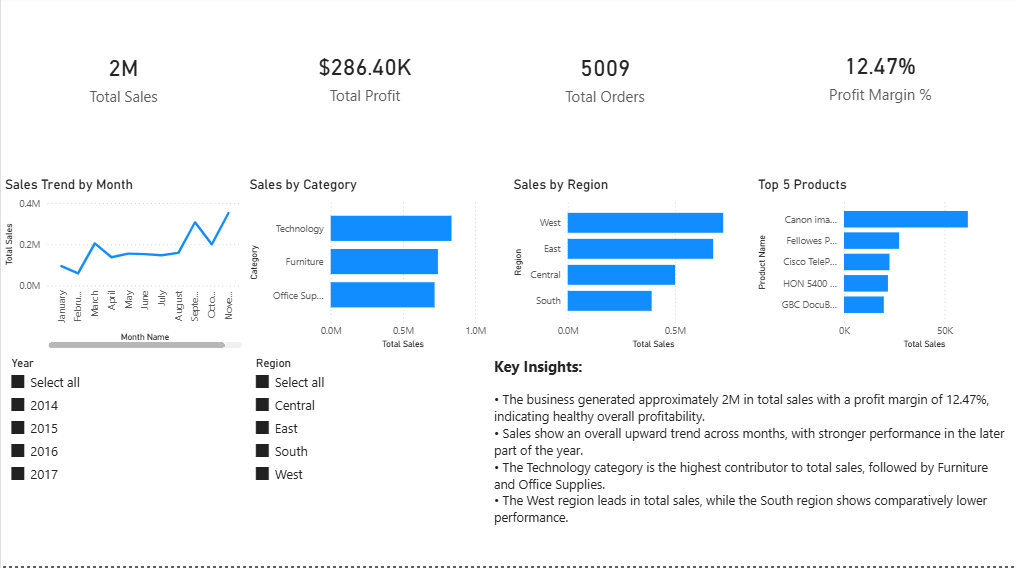

The page's visual inventory and layout, read from the dashboard file:
{"tool":"powerbi","page":{"name":"Page 1","canvas":[1280,720],"ordinal":0},"visuals":[{"type":"card","title":"Total Sales","fields":{"Values":["Sales_Data.Total Sales"]},"box":[0,0,308,204.1],"z":0},{"type":"card","fields":{"Values":["Sales_Data.Total Profit"]},"box":[308,0,300.5,202.2],"z":1000},{"type":"card","fields":{"Values":["Sales_Data.Total Orders"]},"box":[599.1,0,323.2,204.1],"z":2000},{"type":"card","fields":{"Values":["Sales_Data.Profit Margin %"]},"box":[935.4,0,343.9,198.4],"z":3000},{"type":"lineChart","title":"Sales Trend by Month","fields":{"Category":["Sales_Data.Month Name"],"Y":["Sales_Data.Total Sales"]},"box":[0,228.7,308,221.1],"z":4000},{"type":"clusteredBarChart","title":"Sales by Category","fields":{"Category":["Sales_Data.Category"],"Y":["Sales_Data.Total Sales"]},"box":[308,228.7,308,221.1],"z":5000},{"type":"barChart","title":"Sales by Region","fields":{"Category":["Sales_Data.Region"],"Y":["Sales_Data.Total Sales"]},"box":[640.6,228.7,308,221.1],"z":6000},{"type":"clusteredBarChart","title":"Top 5 Products","fields":{"Category":["Sales_Data.Product Name"],"Y":["Sales_Data.Total Sales"]},"box":[948.7,228.7,330.7,221.1],"z":7000},{"type":"slicer","title":"Year","fields":{"Values":["Sales_Data.Year"]},"box":[0,449.8,308,270.2],"z":8000},{"type":"slicer","fields":{"Values":["Sales_Data.Region"]},"box":[308,449.8,308,270.2],"z":9000},{"type":"textbox","box":[616.1,449.8,663.3,270.2],"z":10000}]}

Visuals, with their boxes in screenshot pixels (x1, y1, x2, y2), scaled from the page's 1280x720 canvas onto the 1016x568 screenshot:
"Total Sales" card: 0, 0, 244, 161
card - Sales_Data.Total Profit: 244, 0, 483, 160
card - Sales_Data.Total Orders: 476, 0, 732, 161
card - Sales_Data.Profit Margin %: 742, 0, 1015, 157
"Sales Trend by Month" lineChart: 0, 180, 244, 355
"Sales by Category" clusteredBarChart: 244, 180, 489, 355
"Sales by Region" barChart: 508, 180, 753, 355
"Top 5 Products" clusteredBarChart: 753, 180, 1015, 355
"Year" slicer: 0, 355, 244, 567
slicer - Sales_Data.Region: 244, 355, 489, 567
textbox: 489, 355, 1015, 567
